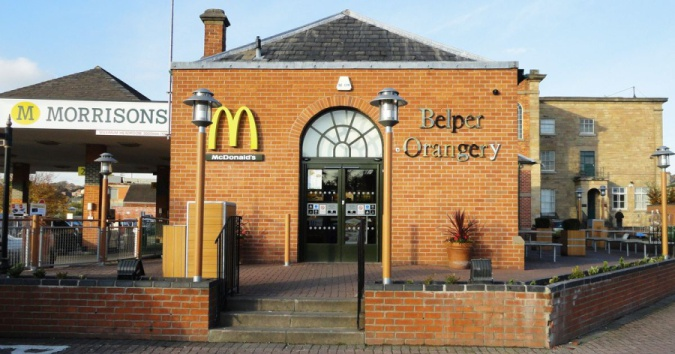mcdonalds: (207, 101, 261, 155)
